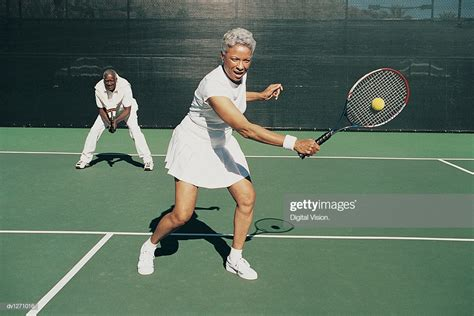tennis_ball: (371, 97, 385, 111)
